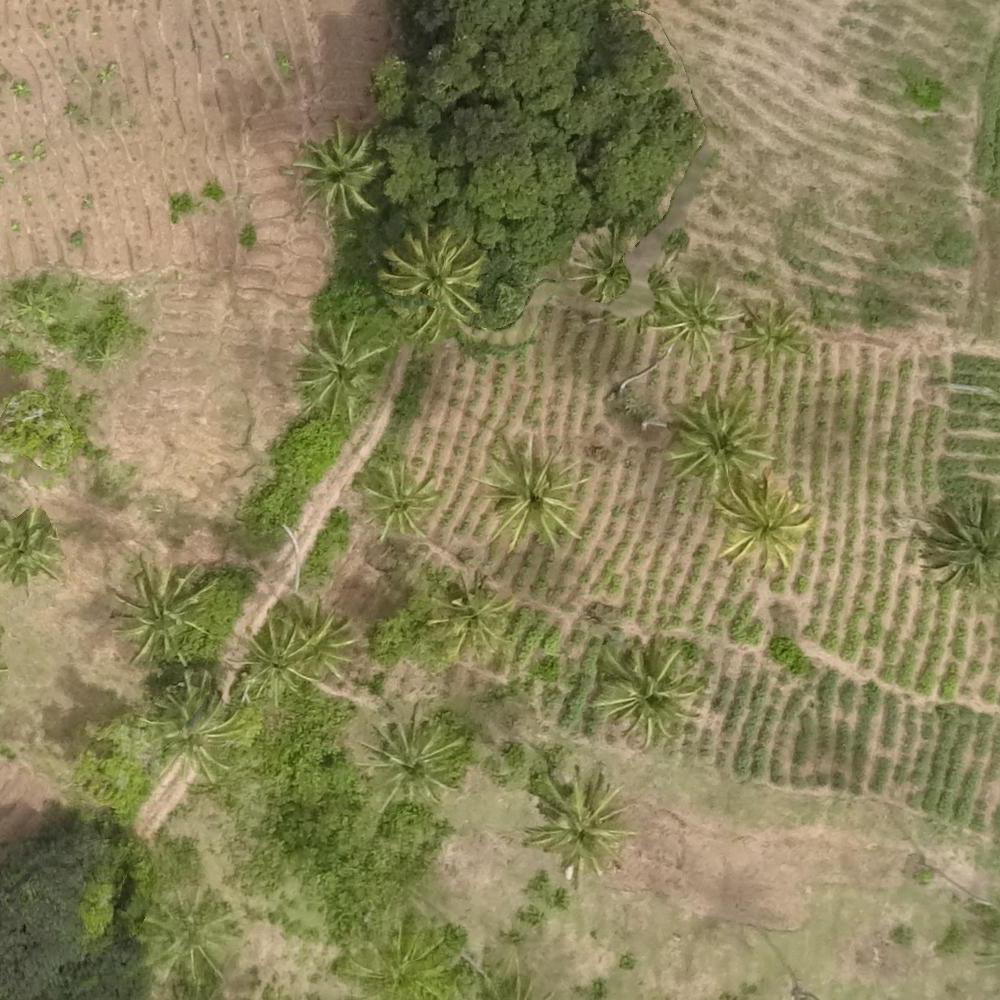Palm: (592, 641, 696, 747), (477, 444, 580, 543), (385, 225, 483, 323), (109, 564, 212, 657), (143, 679, 240, 777), (360, 711, 459, 804), (530, 775, 627, 867), (668, 397, 768, 486), (294, 323, 384, 418), (293, 127, 380, 218), (421, 576, 507, 662), (645, 277, 735, 358), (281, 596, 363, 683), (922, 497, 998, 586), (718, 483, 802, 563), (359, 462, 437, 541), (240, 621, 313, 698), (737, 305, 813, 371), (1, 507, 64, 585), (574, 235, 630, 297)
